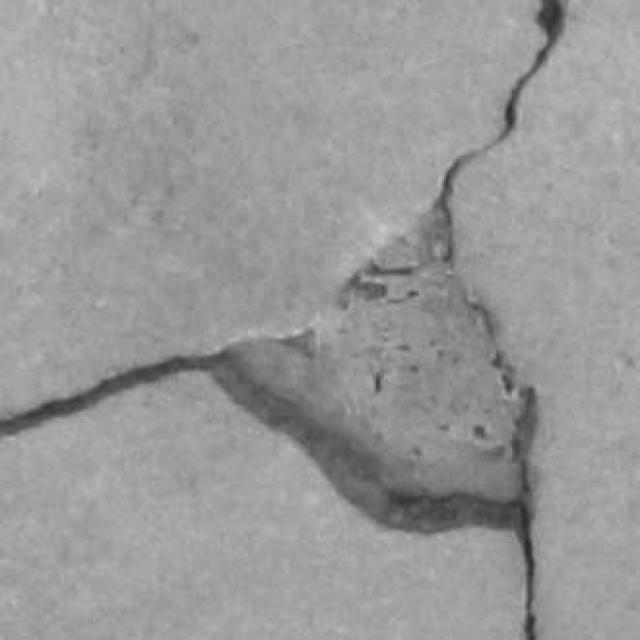crack: (213, 211, 533, 531), (431, 0, 566, 265), (431, 0, 566, 263), (433, 0, 566, 263), (0, 353, 217, 436)
